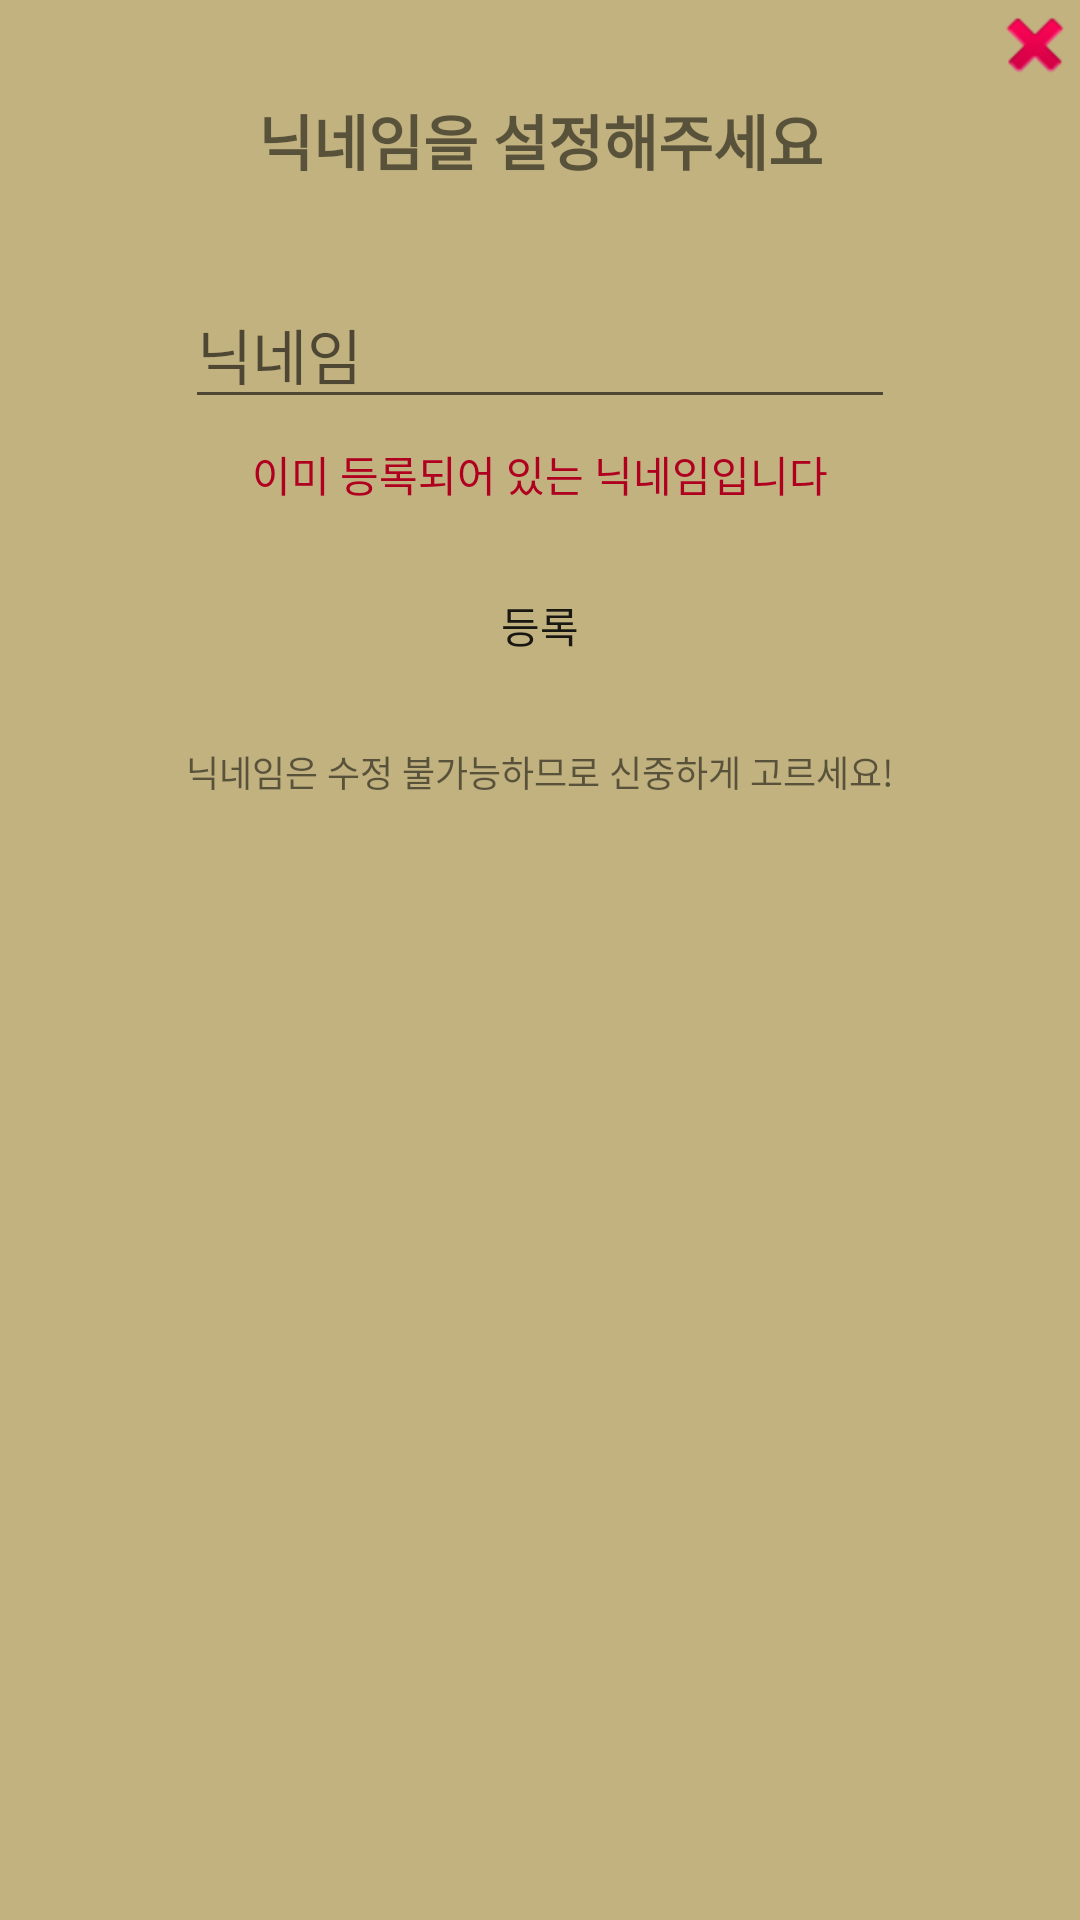

Screen size 1080x1920. Icon name, then its center in pixels as (x=x, y=y):
delete: (x=1034, y=45)
